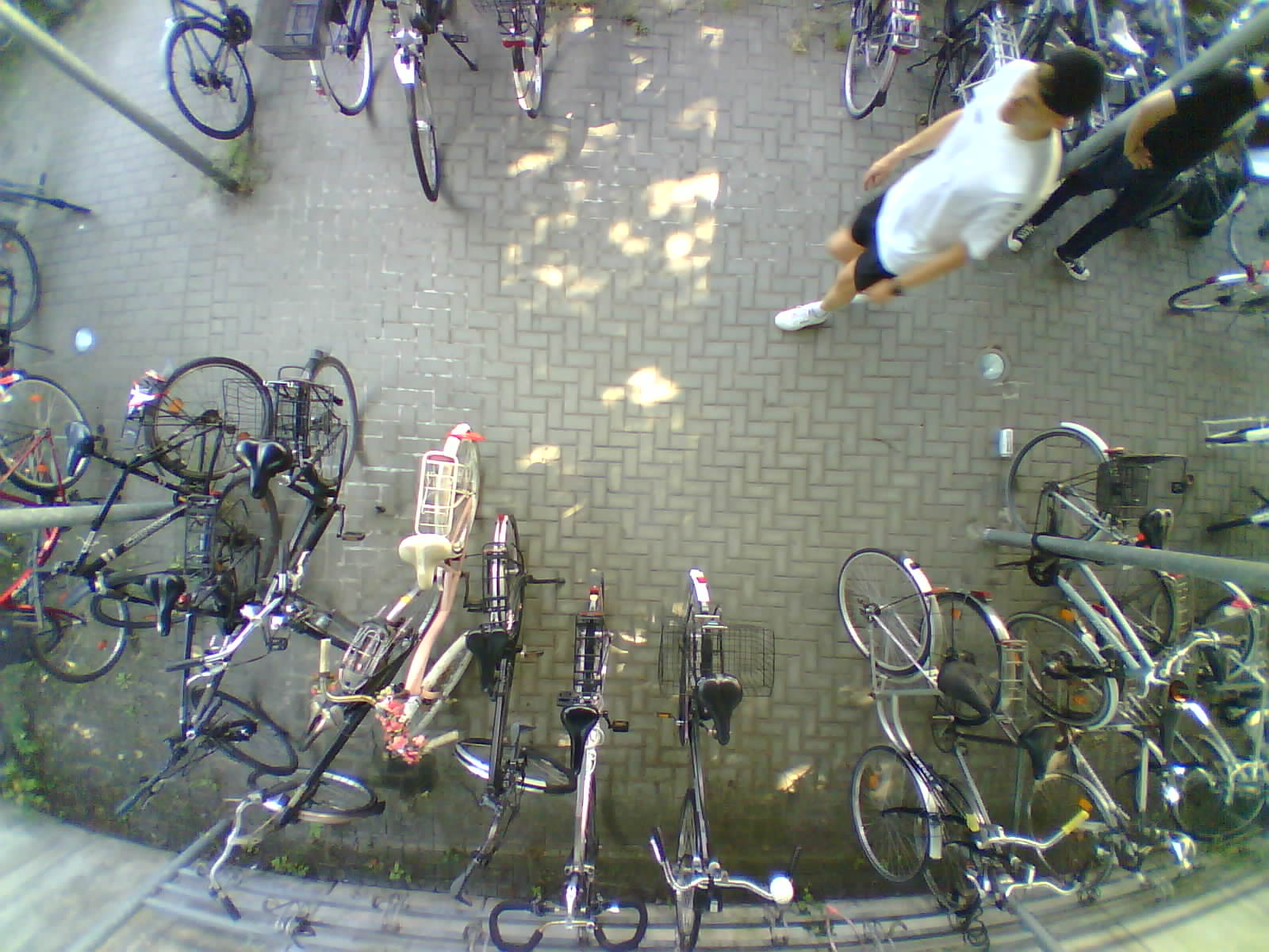bicylce: (83, 355, 270, 626), (244, 585, 443, 824), (645, 548, 753, 952), (379, 418, 505, 753), (905, 596, 1029, 927), (1007, 416, 1140, 724), (837, 541, 959, 872), (169, 471, 298, 776), (0, 362, 124, 675), (1003, 620, 1140, 900), (451, 504, 572, 805), (536, 565, 626, 952), (266, 348, 370, 636)
saddle: (687, 670, 745, 750), (938, 646, 999, 722), (231, 431, 295, 503), (287, 685, 347, 760), (396, 531, 460, 595), (462, 624, 518, 697), (142, 566, 189, 640), (1023, 714, 1071, 786), (559, 699, 593, 783), (61, 415, 96, 480), (1139, 506, 1183, 555), (1159, 695, 1188, 760)
